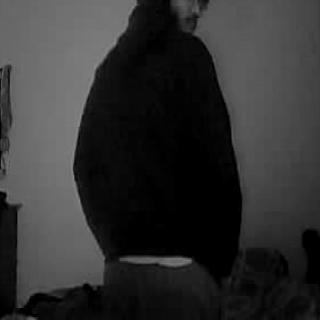Blue Sweatpants: (104, 258, 218, 320)
